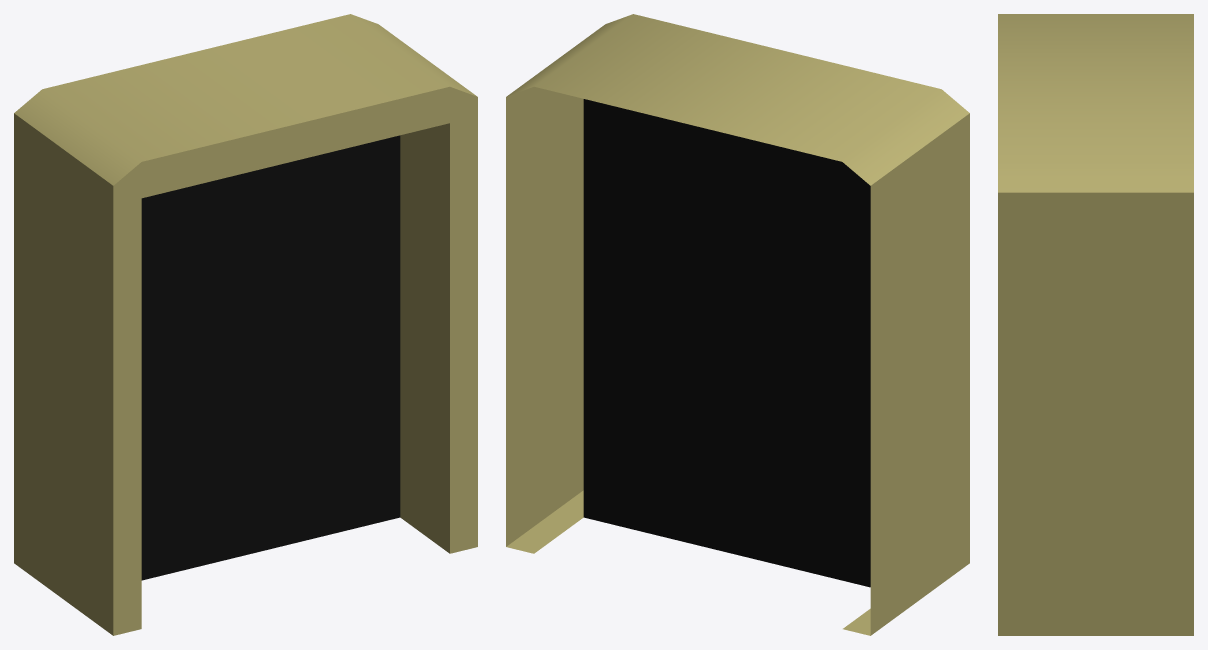
Rendered from Exit.FBX.
3 renders of one model, left to right at view 1: azimuth 30°, elevation 25°; view 2: azimuth 150°, elevation 25°; view 3: azimuth 270°, elevation 25°, orthographic.
Parts seen in each view (by area): view 1: arch, exit; view 2: exit, arch; view 3: arch.
Part boxes in pixels (box(x1,y1,x2,y2)): arch: box(14, 14, 477, 635); exit: box(141, 135, 400, 580); exit: box(583, 99, 870, 587); arch: box(506, 14, 969, 635); arch: box(998, 14, 1193, 635).
Bounding box in the file's own units: 21.19 × 25.95 × 10.
